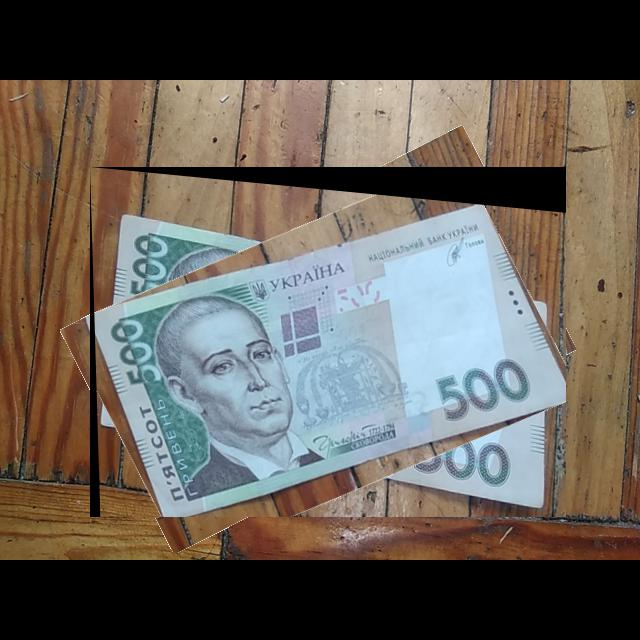500uah: (94, 197, 567, 518)
